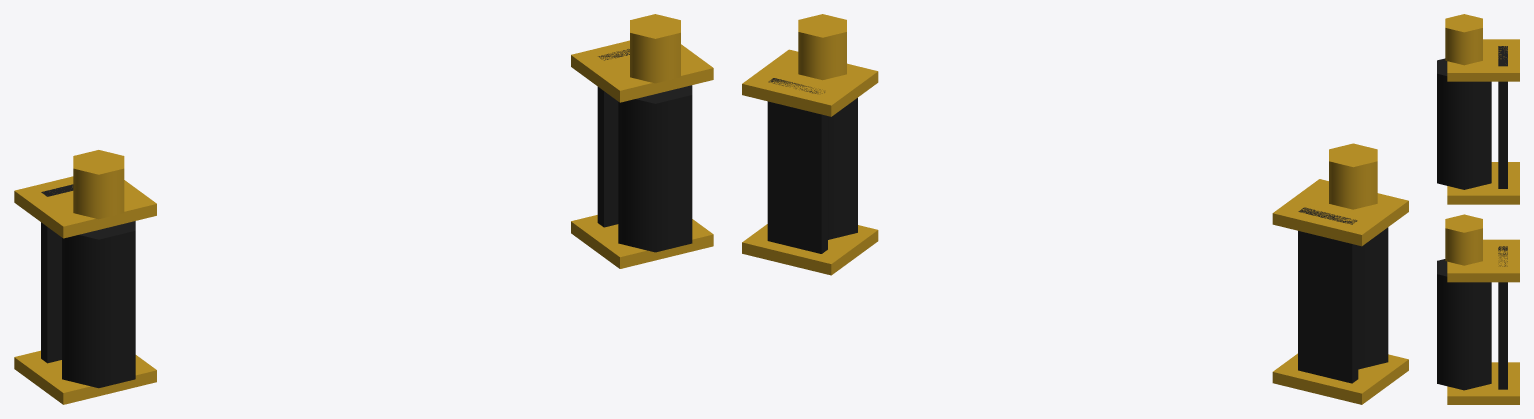
Rendered from tr20k_winch.obj.
3 renders of one model, left to right at view 1: azimuth 30°, elevation 25°; view 2: azimuth 150°, elevation 25°; view 3: azimuth 270°, elevation 25°, orthographic. The views are drawn at different scales.
Visible parts, largest first — view 1: tr20k_winch; view 2: tr20k_winch; view 3: tr20k_winch.
Part boxes in pixels (<box>): tr20k_winch: <box>14,14,713,404</box>; tr20k_winch: <box>742,14,1408,404</box>; tr20k_winch: <box>1437,14,1519,404</box>.
Size of the model in its own units: 4.58 by 1.5 by 0.6852.
